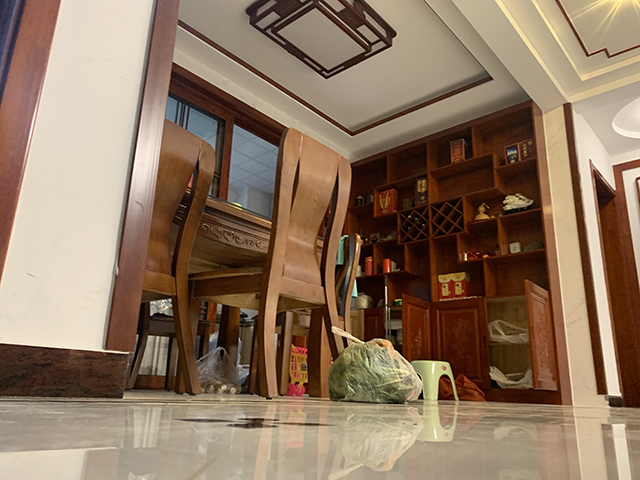cabinet: (429, 278, 573, 406)
stool: (176, 128, 351, 400), (143, 119, 216, 396), (411, 359, 459, 401)
